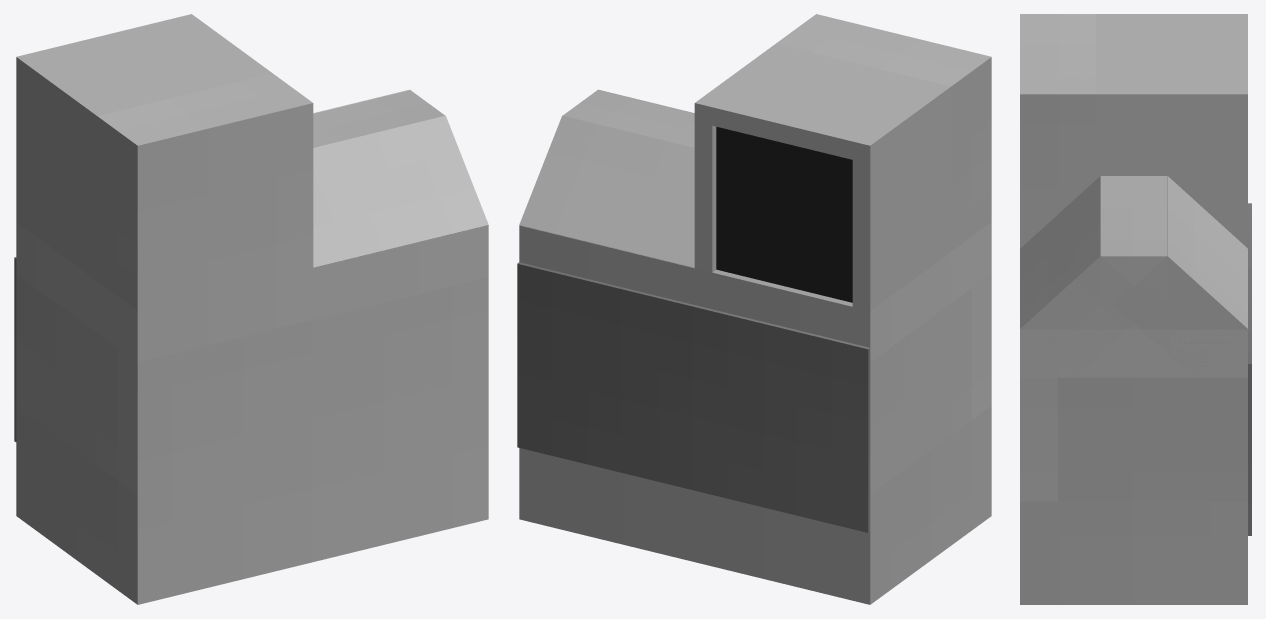
Rendered from HRmachine.gltf.
3 views of the same model, side by side, from view 1: azimuth 30°, elevation 25°; view 2: azimuth 150°, elevation 25°; view 3: azimuth 270°, elevation 25° (orthographic). The views are drawn at different scales.
Visible parts, largest first — view 1: cube (×9); view 2: cube (×12); view 3: cube (×11).
Part boxes in pixels (x1,y1,x2,y2): cube (×9): (16,14,488,604); cube (×12): (517,14,991,604); cube (×11): (1020,14,1251,604).
Bounding box in the file's own units: 0.625 × 0.7813 × 0.3813.
6 materials, 6 textured.
